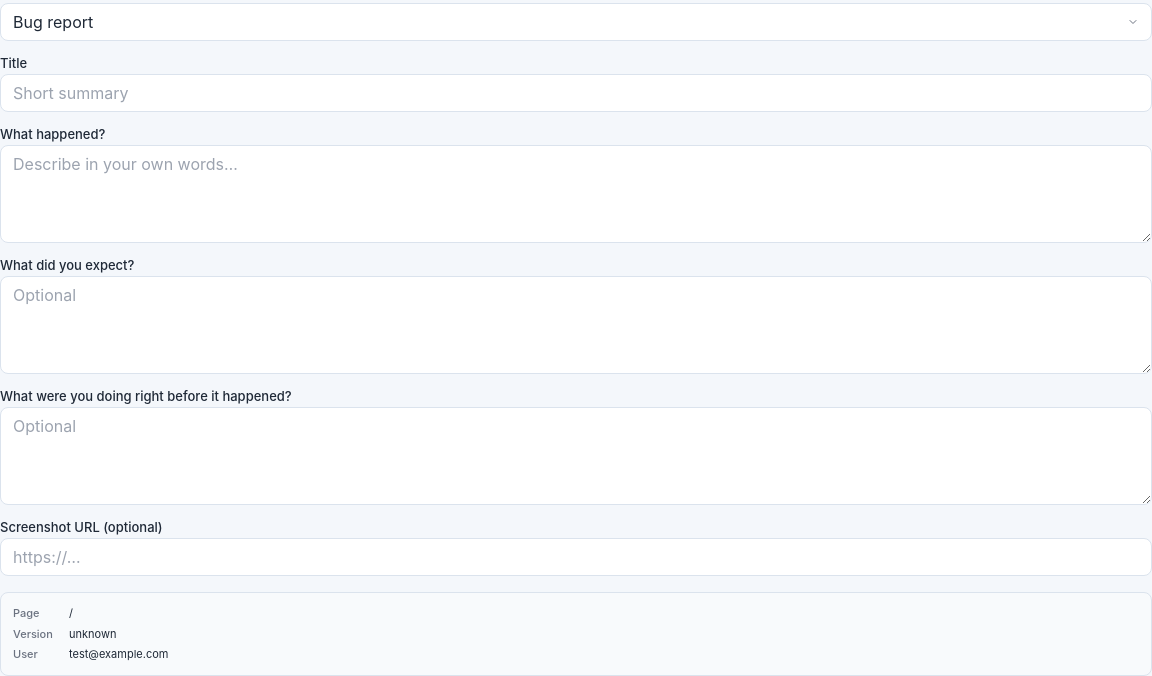
Test case: FeedbackForm › shows error on submission failure
Type "Test title" into the field labelled "Title" at (576, 93), box [0, 74, 1151, 112]
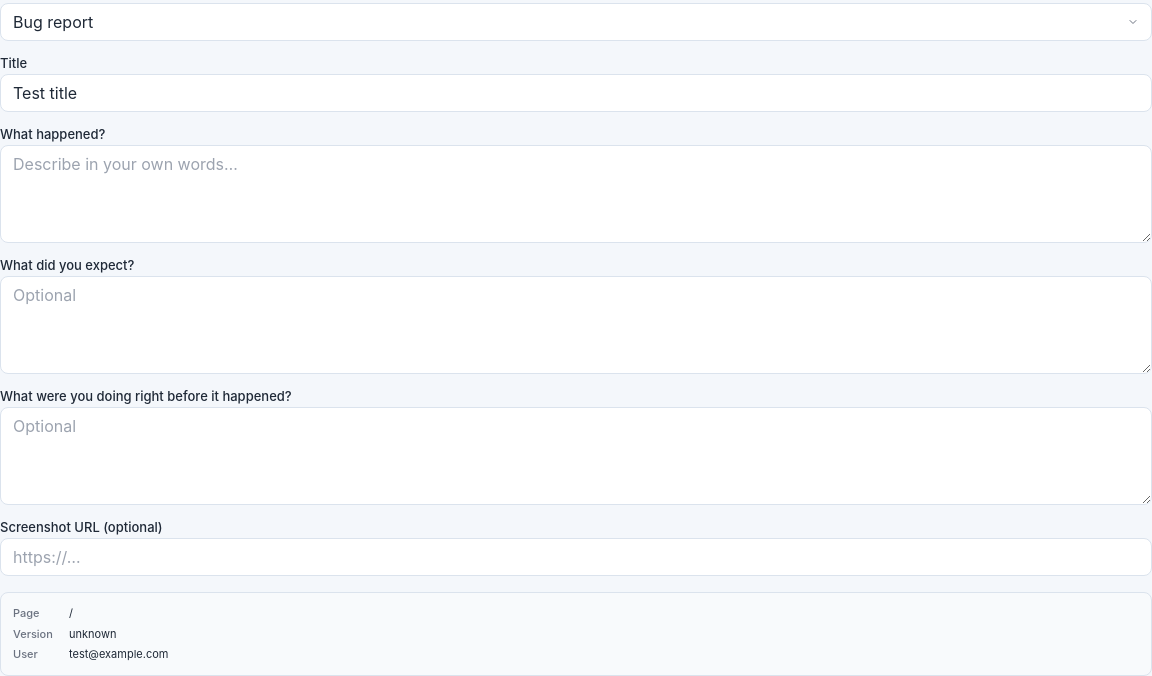
Type "Test answer" into the text box labelled "What happened?" at (576, 194), box [0, 145, 1151, 243]
(page scrolled)
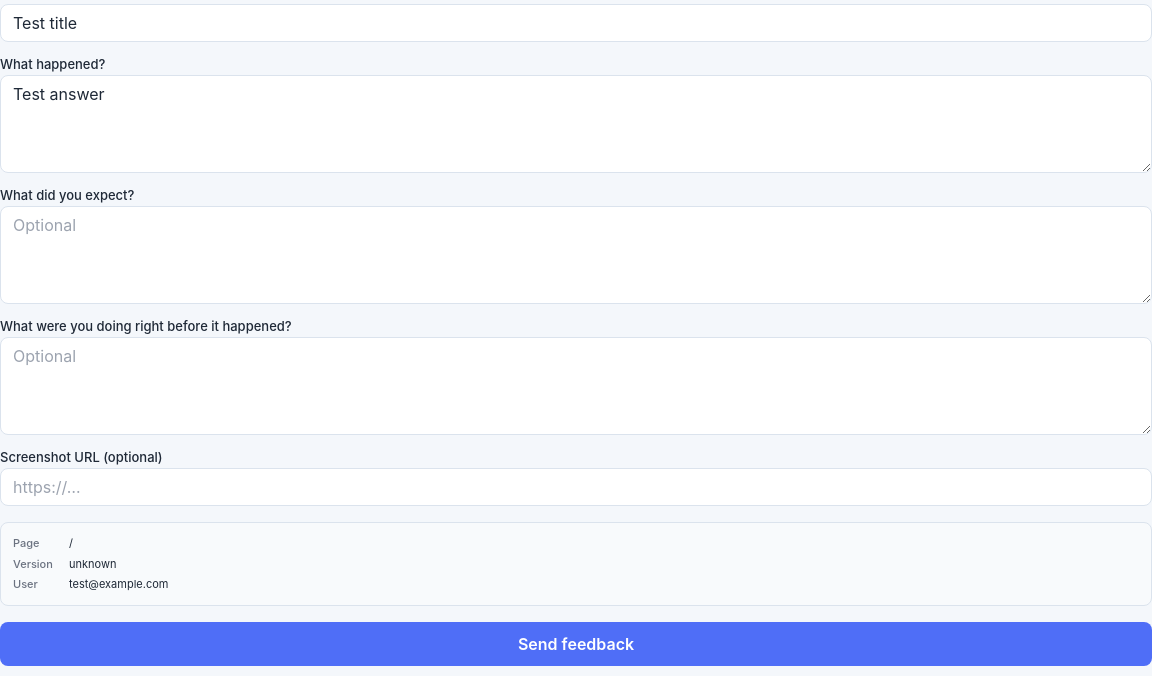
Click the button "Send feedback" at (576, 644), box [0, 622, 1151, 666]
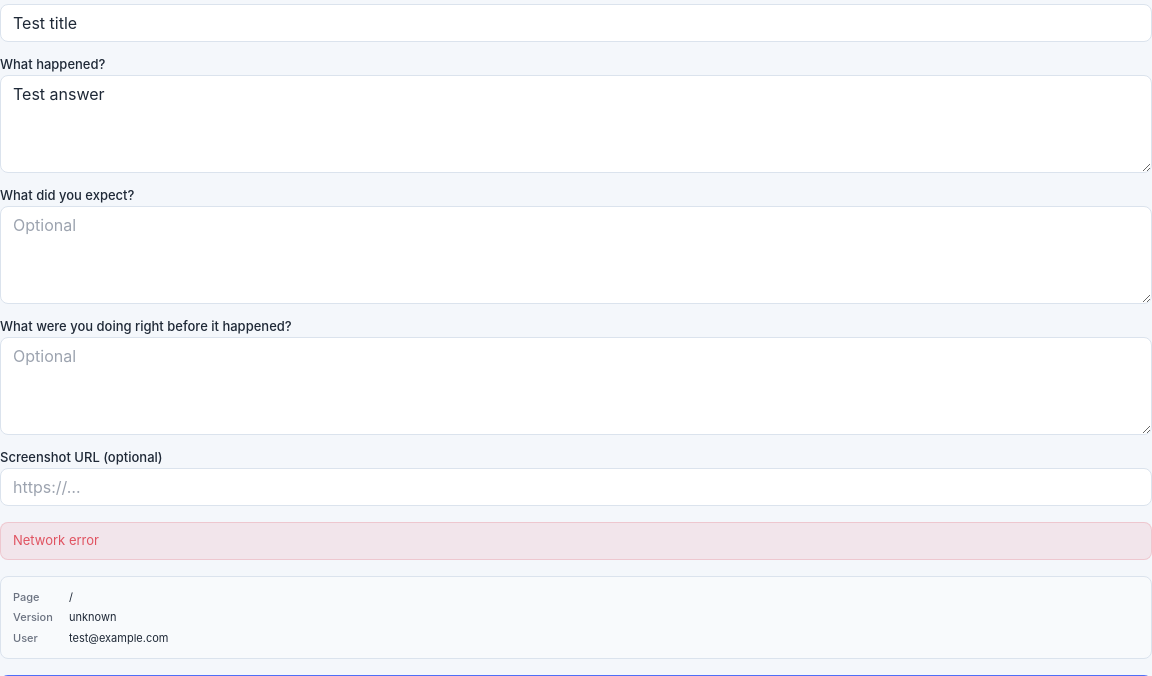
Expected: the text "Network error" is shown, [0, 522, 1151, 560]
